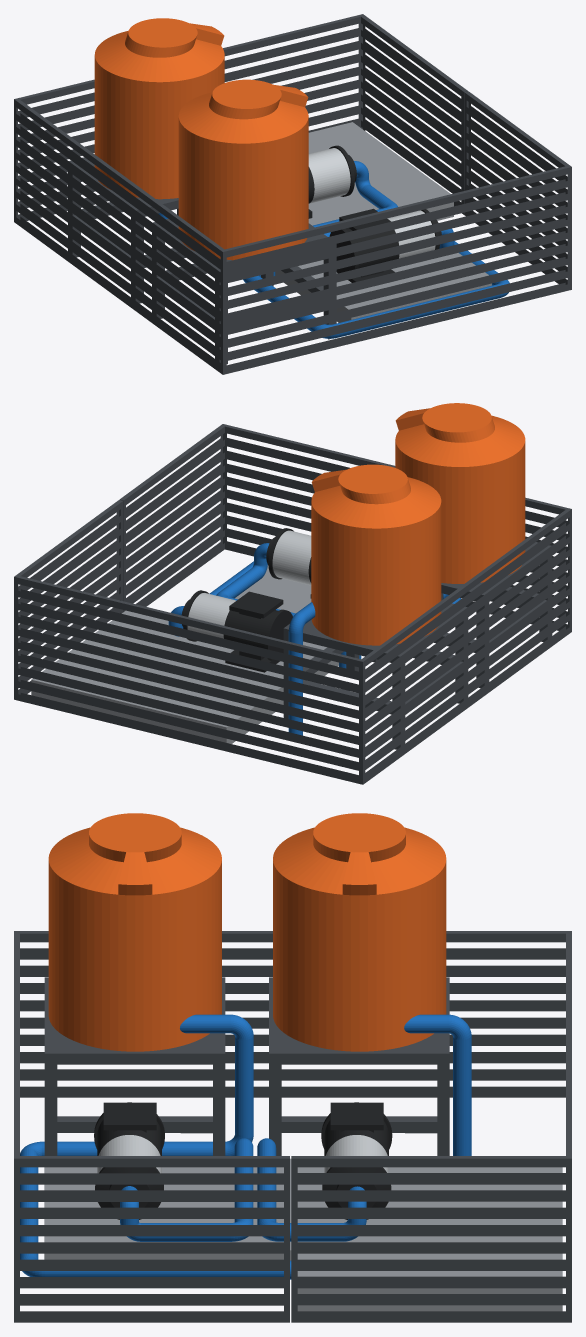
Rendered from water.glb.
The picture shows the model from 3 angles, top to bottom: view 1: azimuth 30°, elevation 25°; view 2: azimuth 150°, elevation 25°; view 3: azimuth 270°, elevation 25°; orthographic projection. The views are drawn at different scales.
Visible parts, largest first — view 1: water; view 2: water; view 3: water.
Boxes of the visible parts, bbox=[...] form: water: bbox=[14, 14, 571, 374]; water: bbox=[14, 403, 571, 784]; water: bbox=[14, 813, 571, 1322].
Size of the model in its own units: 8.94 by 5.82 by 9.27.
